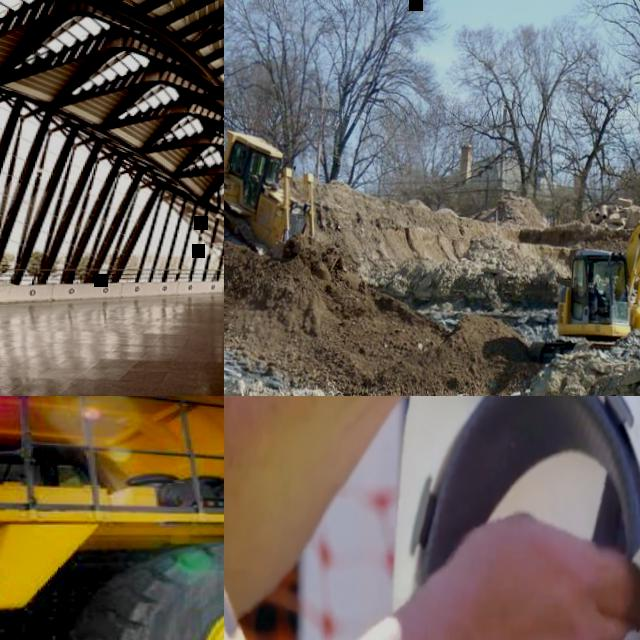helmet: (392, 396, 640, 640)
machinery: (0, 396, 224, 640), (530, 166, 640, 362), (224, 128, 319, 255)
person: (224, 396, 640, 640), (232, 148, 257, 178)
